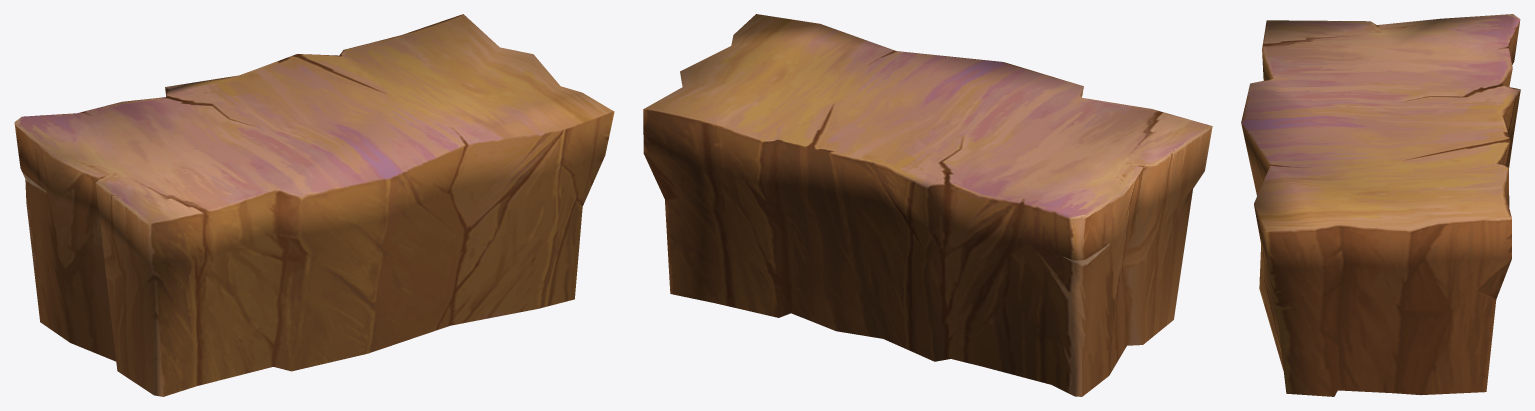
Rendered from cj_hill6.fbx.
The picture shows the model from 3 angles, left to right: view 1: azimuth 30°, elevation 25°; view 2: azimuth 150°, elevation 25°; view 3: azimuth 270°, elevation 25°; orthographic projection. The views are drawn at different scales.
Parts seen in each view (by area): view 1: cj_hill6; view 2: cj_hill6; view 3: cj_hill6.
Part boxes in pixels (left/top/right/bottom): cj_hill6: left=14, top=14, right=614, bottom=396; cj_hill6: left=643, top=14, right=1212, bottom=396; cj_hill6: left=1241, top=14, right=1520, bottom=396.
Size of the model in its own units: 1420 by 570 by 792.
